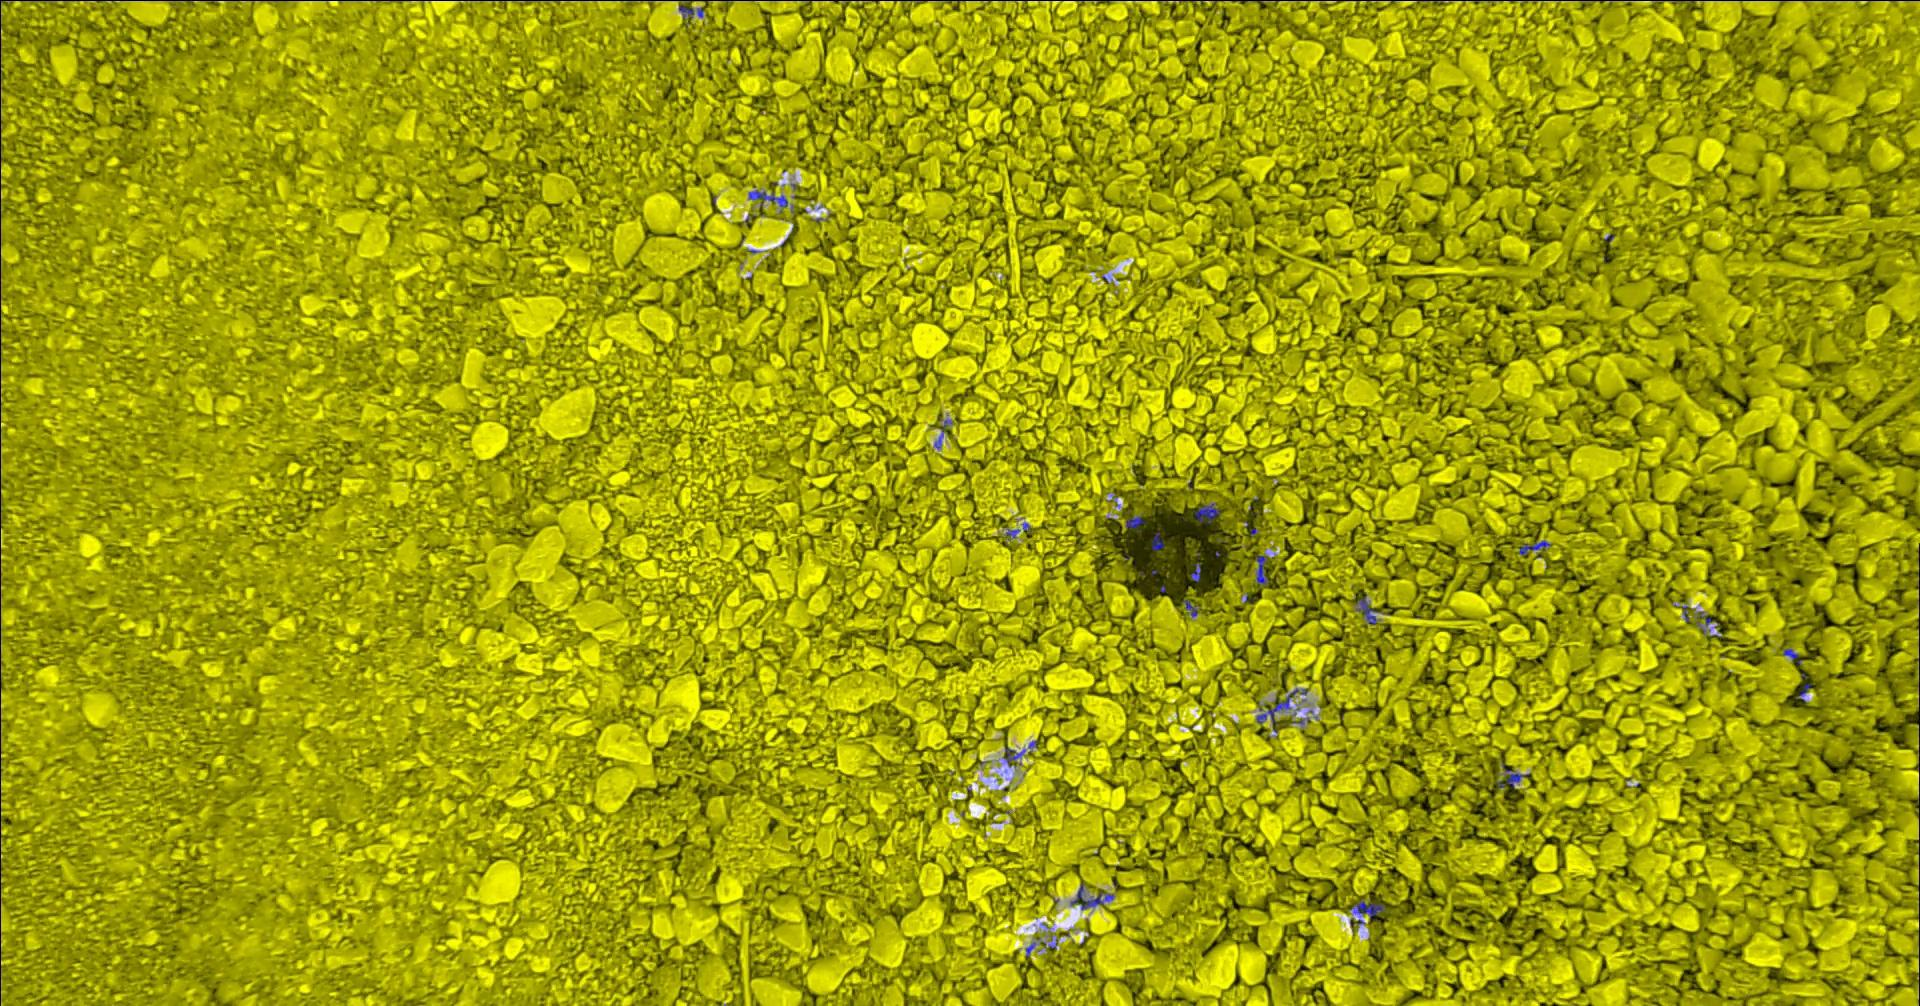ant: (1258, 688, 1309, 724), (1072, 882, 1115, 909), (750, 185, 795, 212), (1359, 596, 1382, 624), (1352, 901, 1385, 920), (1195, 503, 1222, 523), (1004, 746, 1027, 767), (1506, 768, 1531, 788), (936, 419, 952, 448), (1520, 540, 1553, 554), (1008, 522, 1031, 539), (1257, 555, 1269, 586), (1128, 514, 1147, 532), (1785, 648, 1804, 664), (681, 4, 705, 17), (1183, 600, 1199, 616), (1153, 531, 1164, 551), (1192, 561, 1203, 580)
